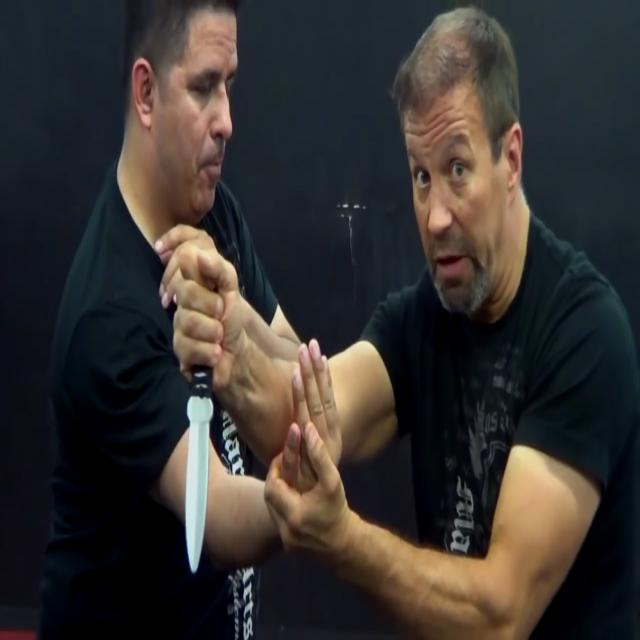knife: (185, 363, 217, 578)
